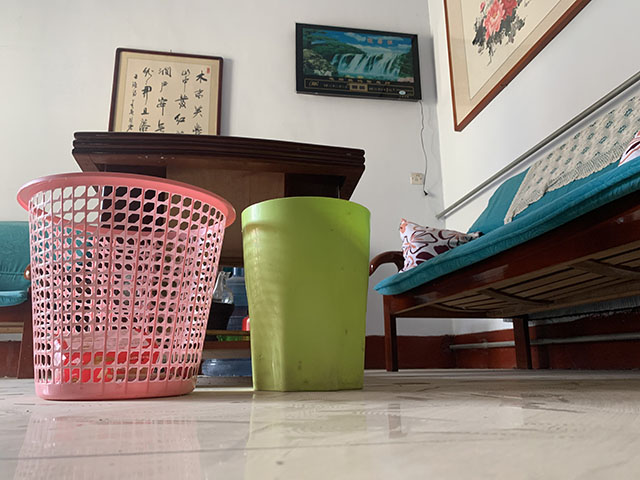sofa: (368, 92, 640, 372)
trashcan: (15, 170, 237, 403), (240, 194, 372, 394)
